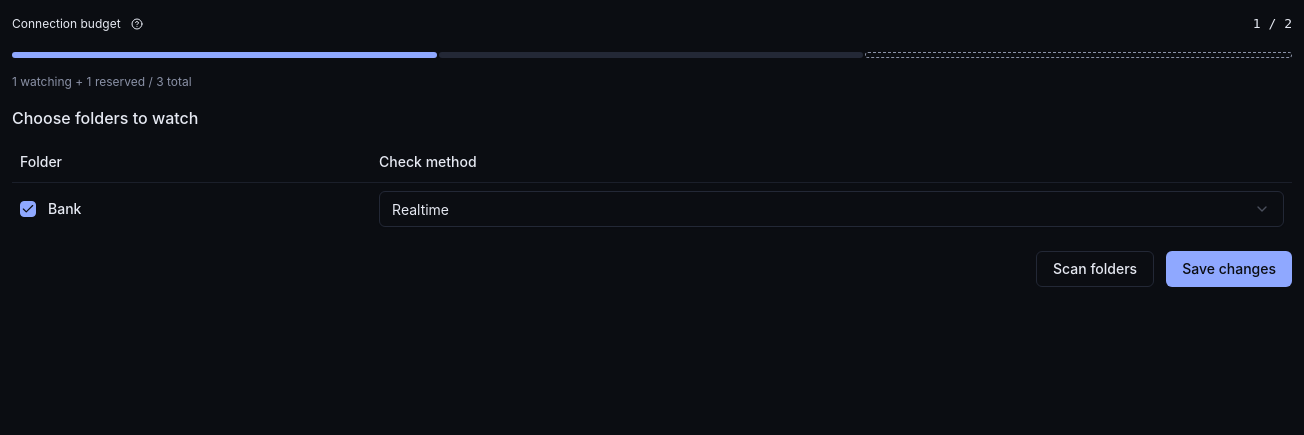
it: subscription conflict preserves the chosen check method and offers reload
Select "Every 15 minutes" in the dropdown named "Bank Check method" at (832, 208), box [379,190,1284,226]
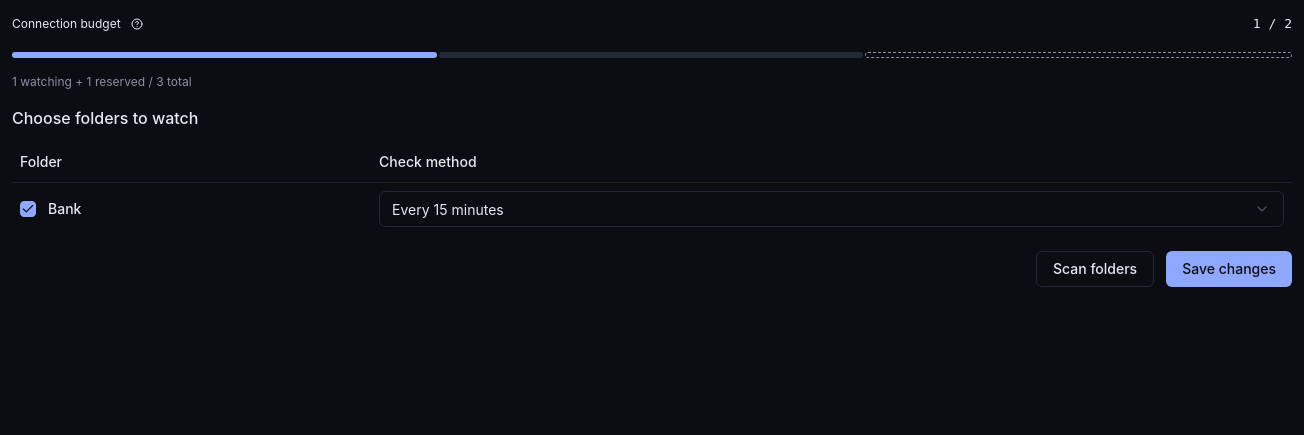
Click the button "Save changes" at (1229, 268), box [1166,250,1292,286]
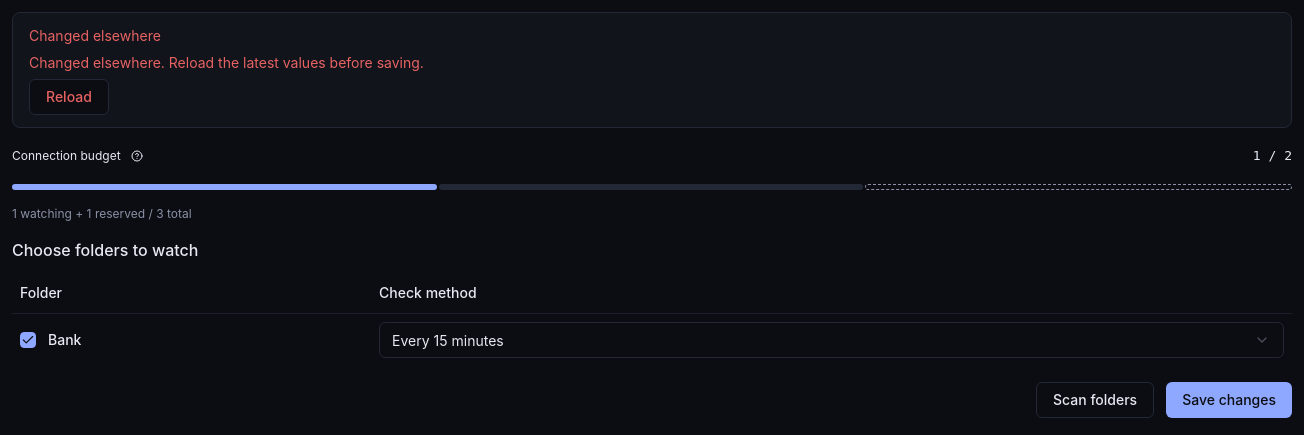
Check: the text "Changed elsewhere" is shown, box [29,25,161,48]
Check: the button "Reload" is shown, box [29,78,109,114]
